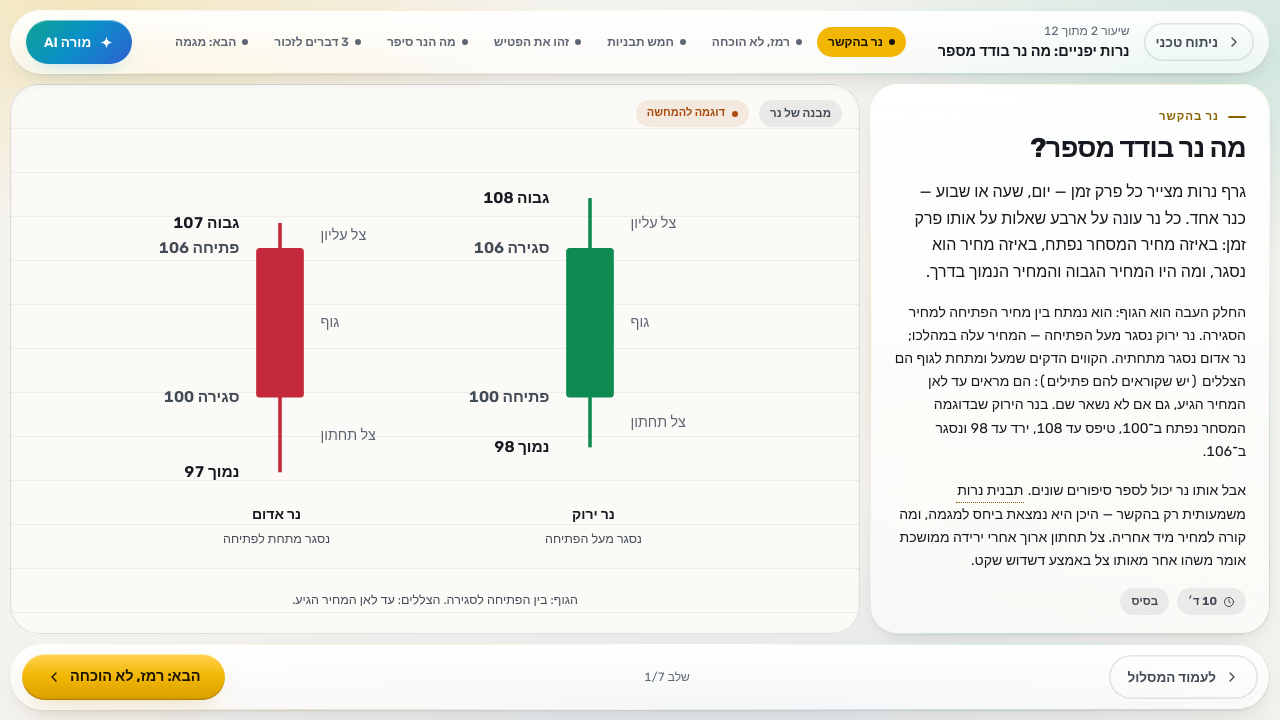
Test: choosing on a chart (T2) › a wrong candle is named and explained; the hammer is right
Click the button "זהו את הפטיש" at (537, 42), box [483,27,592,57]
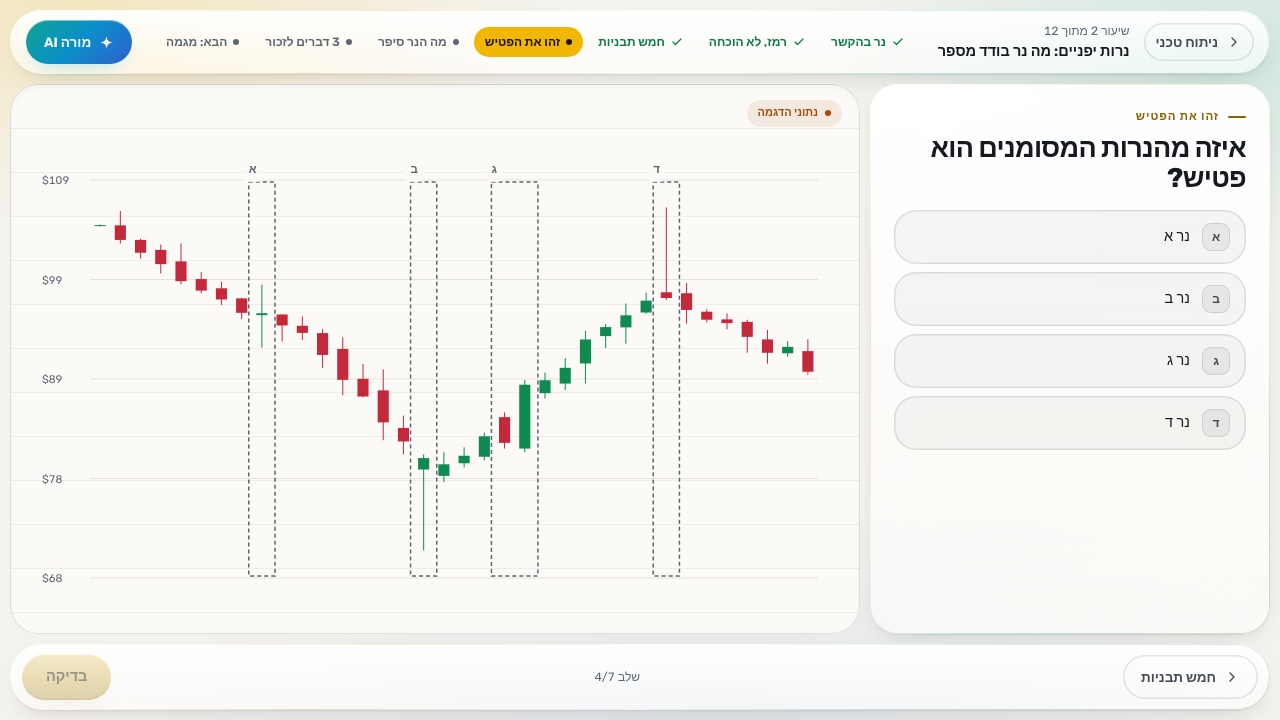
Click the radio button labelled "נר א" at (1216, 237), box [894,210,1246,264]
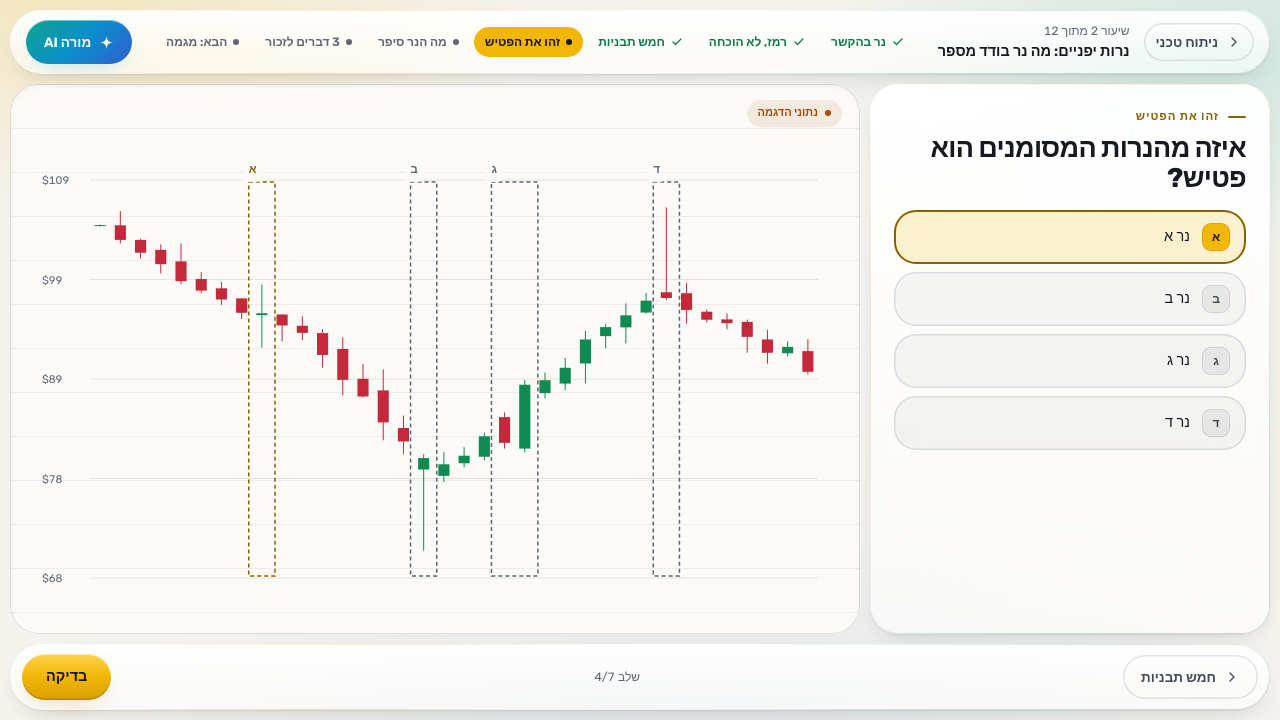
Click the button "בדיקה" at (67, 677), box [22,654,111,700]
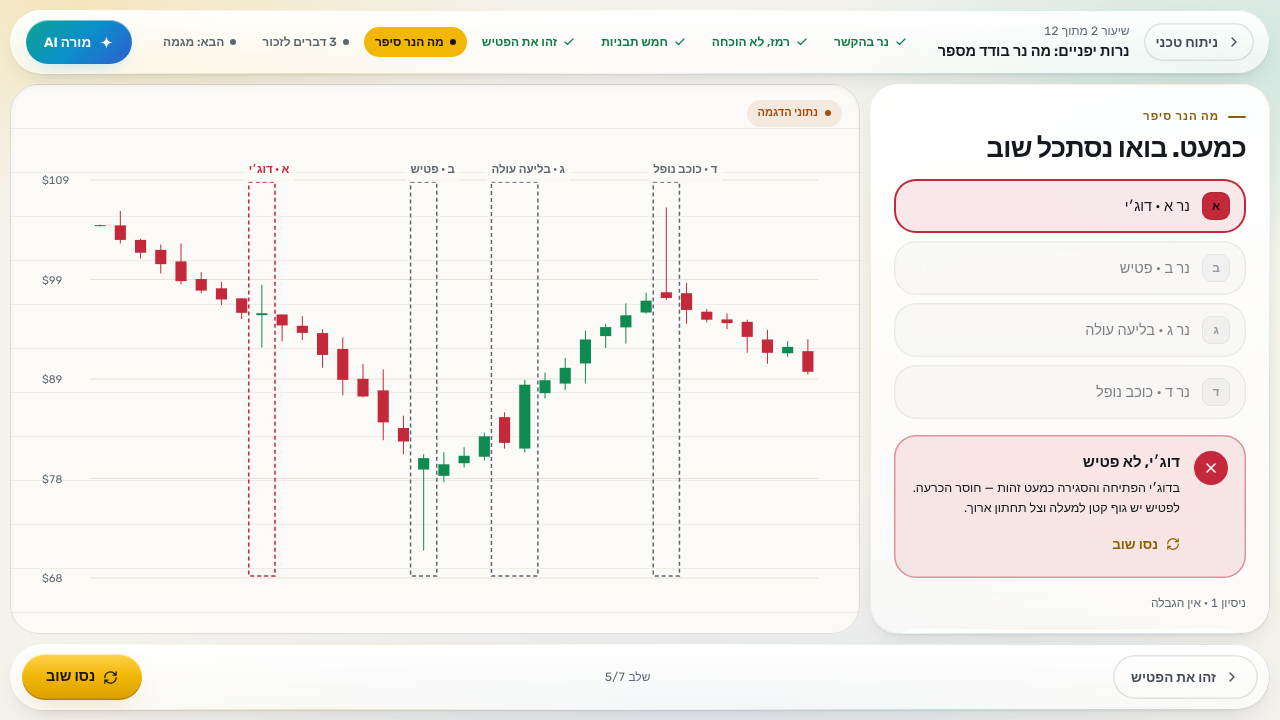
Result: the message shows "דוג׳י, לא פטיש" at [1083,454,1180,472]
Click the button "נסו שוב" in the row of "שלב 5/7" at (82, 677), box [22,654,142,700]
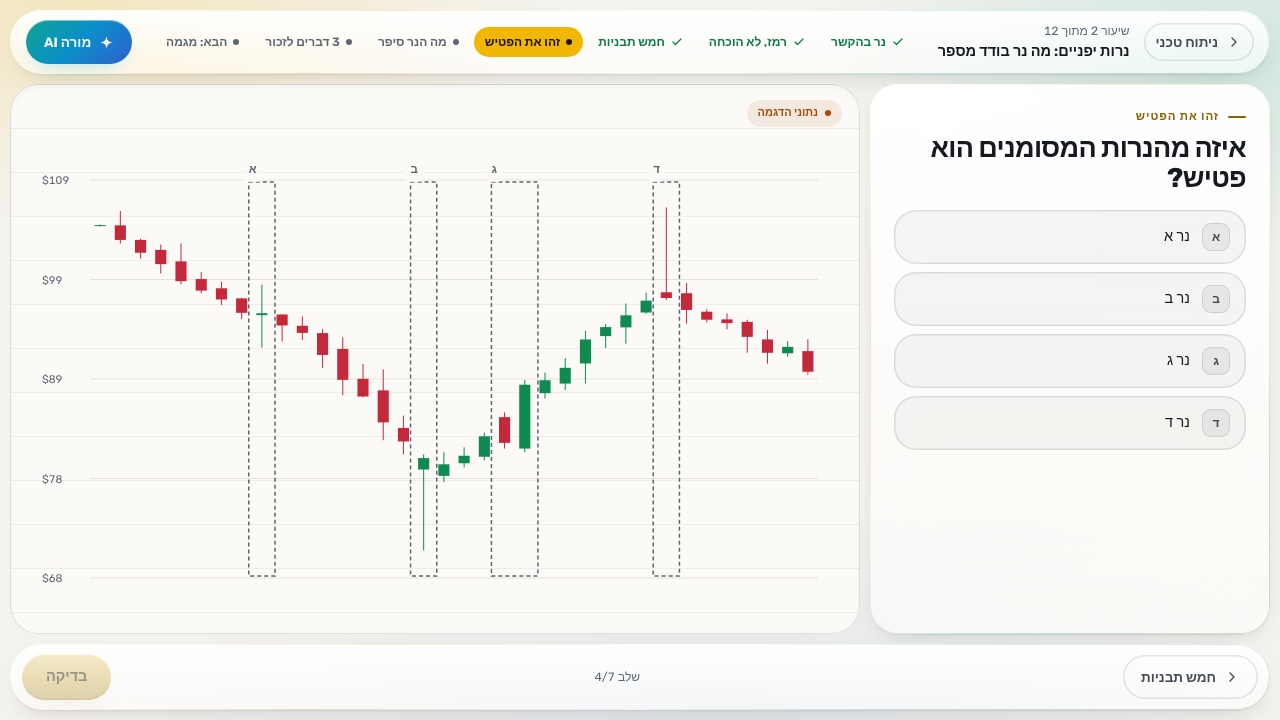
Click the radio button labelled "נר ב" at (1216, 299), box [894,272,1246,326]
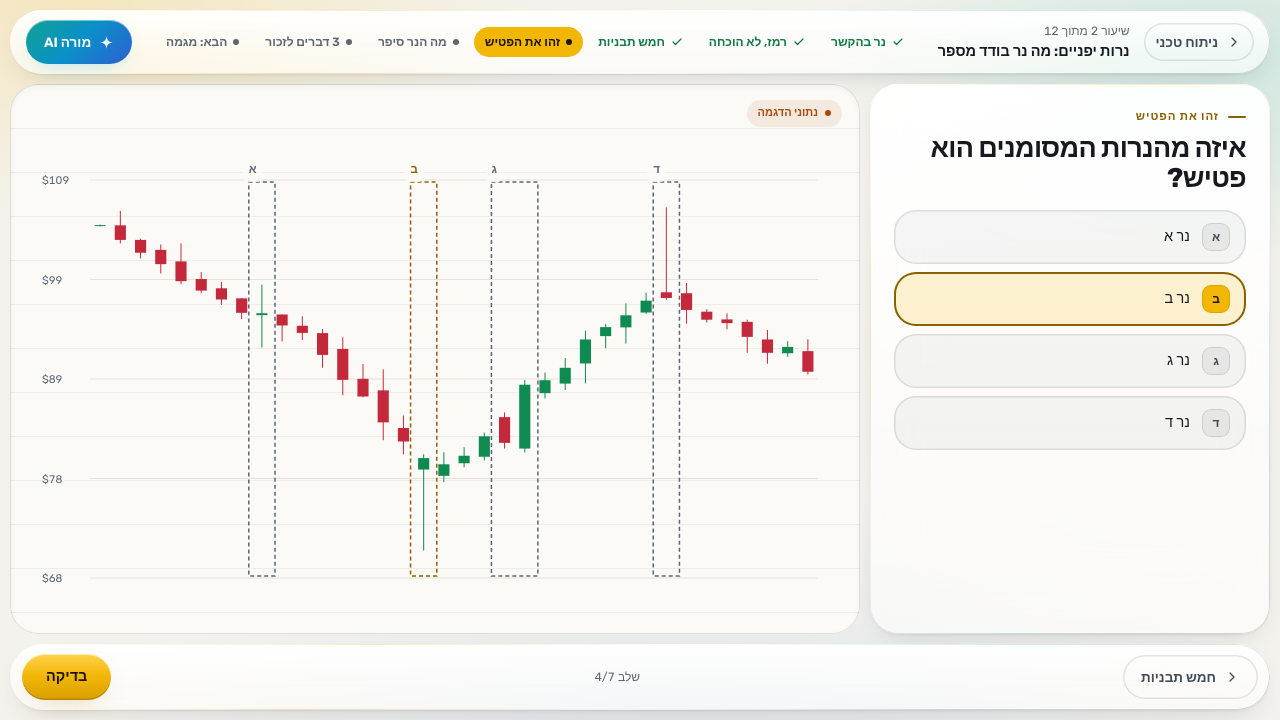
Click the button "בדיקה" at (67, 677), box [22,654,111,700]
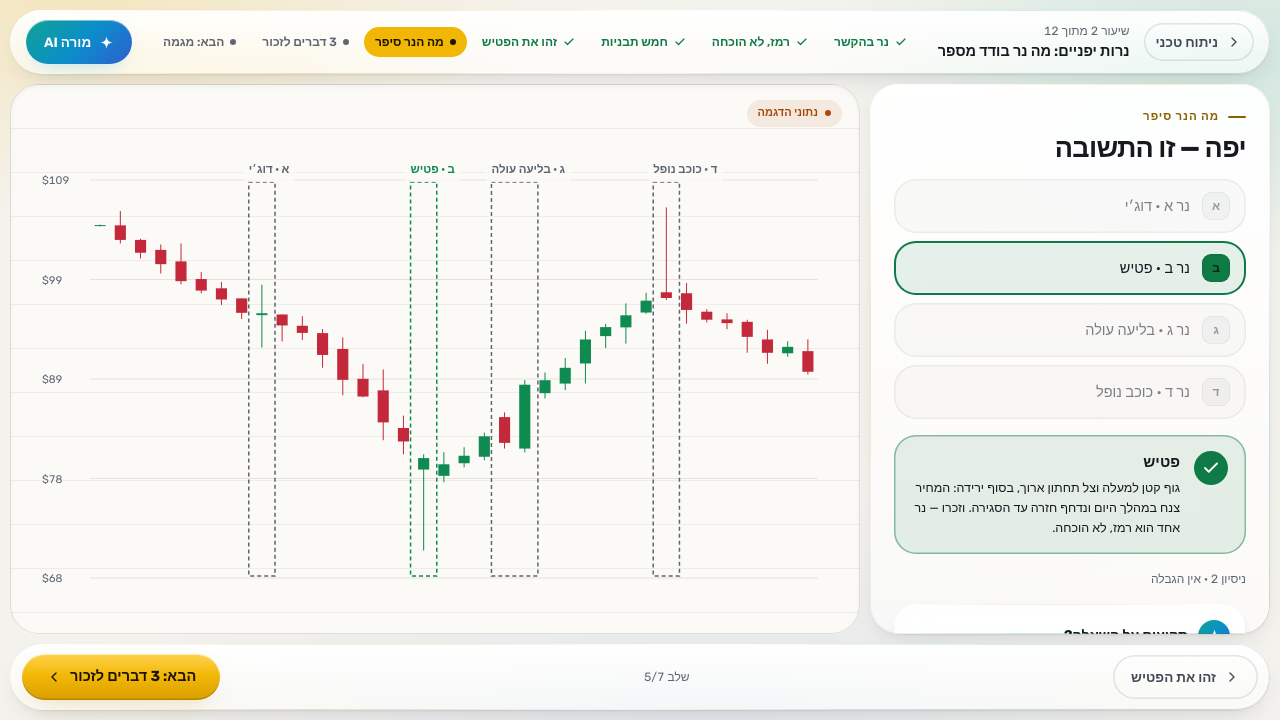
Result: the heading "יפה — זו התשובה" is shown at [1055,132,1246,164]
